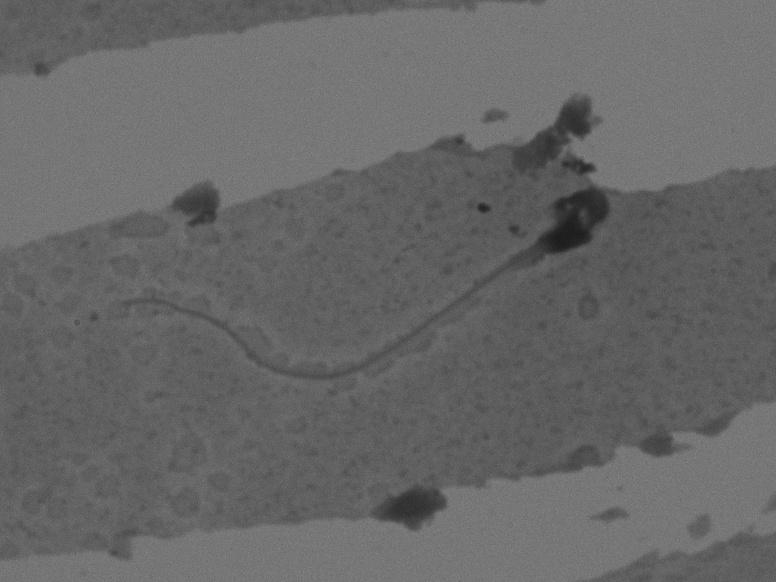Abnormal: (93, 176, 621, 405)
